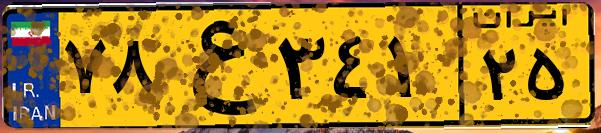1: (385, 28, 445, 110)
2: (475, 38, 525, 113)
3: (270, 28, 330, 110)
4: (330, 28, 385, 110)
5: (525, 38, 570, 115)
7: (57, 26, 110, 100)
8: (110, 28, 158, 98)
ع: (158, 12, 270, 120)
